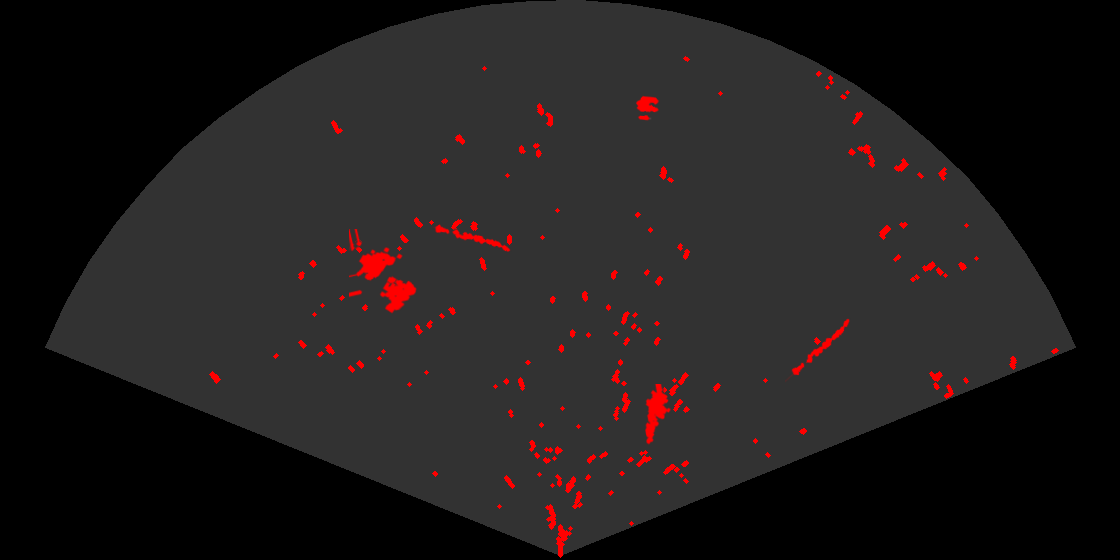ball: (635, 94, 661, 122)
cage: (349, 229, 418, 315)
chain: (785, 317, 851, 384), (432, 223, 512, 253)
frogman: (644, 384, 673, 445)
